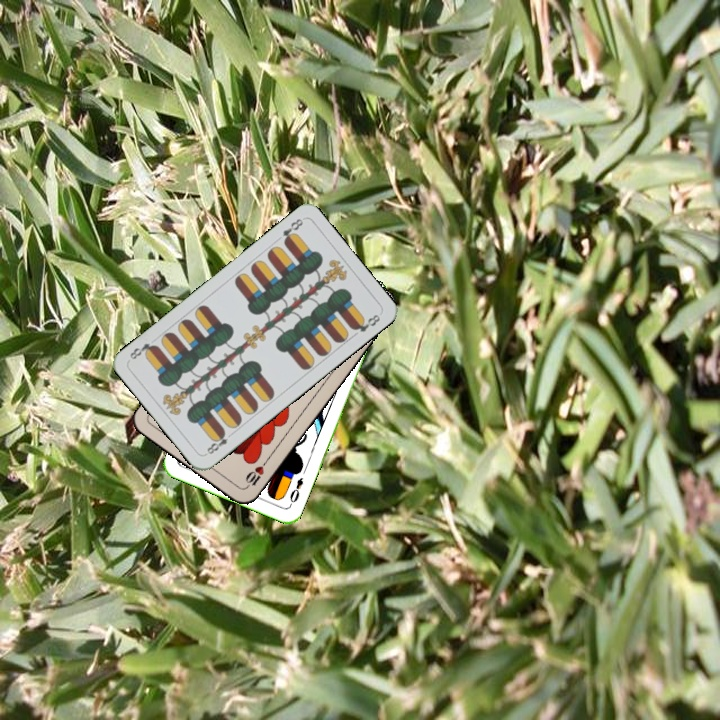E8: (202, 427, 236, 457), (278, 214, 306, 247)
EO: (286, 473, 306, 509)
H10: (241, 455, 271, 491)
